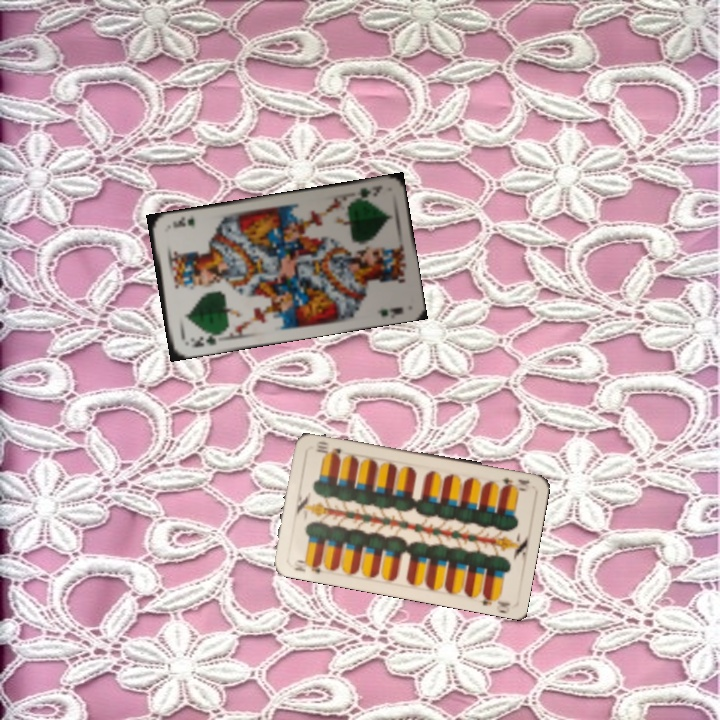E10: (290, 556, 326, 576), (498, 474, 532, 494)
GK: (350, 181, 385, 203), (186, 329, 222, 350)
